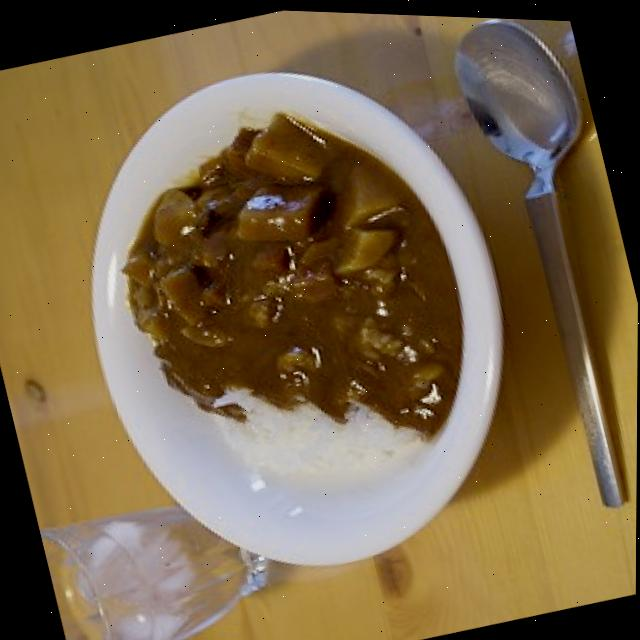牛肉菜式: (34, 18, 551, 612)
